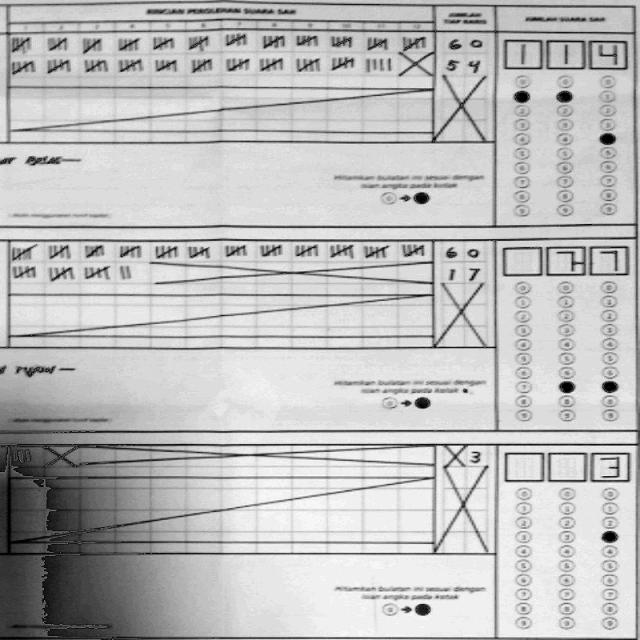Suara: (496, 30, 636, 70), (498, 237, 630, 278), (498, 446, 632, 484)
